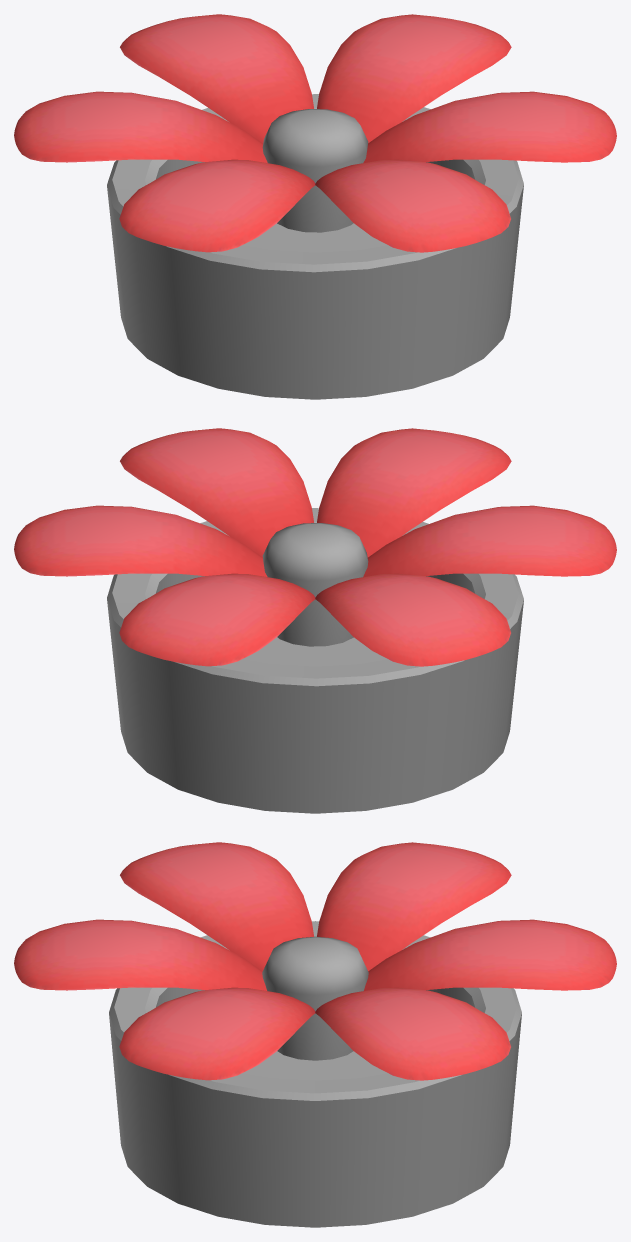
Rendered from Flower_Red.fbx.
3 views of the same model, one above another, from view 1: azimuth 30°, elevation 25°; view 2: azimuth 150°, elevation 25°; view 3: azimuth 270°, elevation 25° (orthographic).
Parts seen in each view (by area): view 1: Petal_01__3378_Petal_01_6, Flower_Pot_0, pCylinder1; view 2: Petal_01__3378_Petal_01_6, Flower_Pot_0, pCylinder1; view 3: Petal_01__3378_Petal_01_6, Flower_Pot_0, pCylinder1.
Boxes of the visible parts, left/top/right/bottom form: Petal_01__3378_Petal_01_6: left=14, top=14, right=616, bottom=252; Flower_Pot_0: left=107, top=94, right=523, bottom=399; pCylinder1: left=262, top=109, right=368, bottom=232; Petal_01__3378_Petal_01_6: left=14, top=428, right=616, bottom=666; Flower_Pot_0: left=107, top=508, right=523, bottom=813; pCylinder1: left=262, top=523, right=368, bottom=646; Petal_01__3378_Petal_01_6: left=14, top=842, right=616, bottom=1080; Flower_Pot_0: left=109, top=921, right=521, bottom=1227; pCylinder1: left=262, top=936, right=368, bottom=1060.
Bounding box in the file's own units: 14.47 × 15.73 × 5.94.
